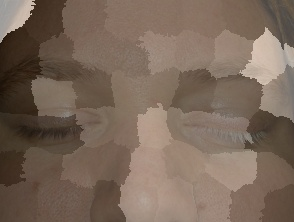vitiligo: (167, 87, 291, 169)
